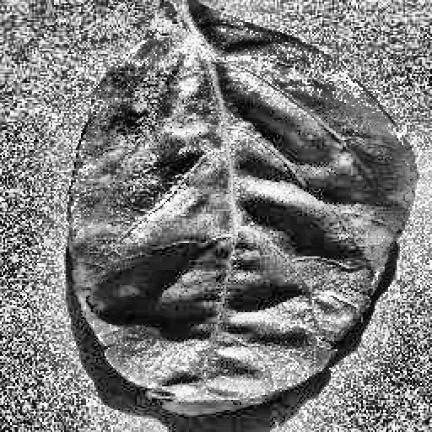leaf: (69, 0, 417, 413)
